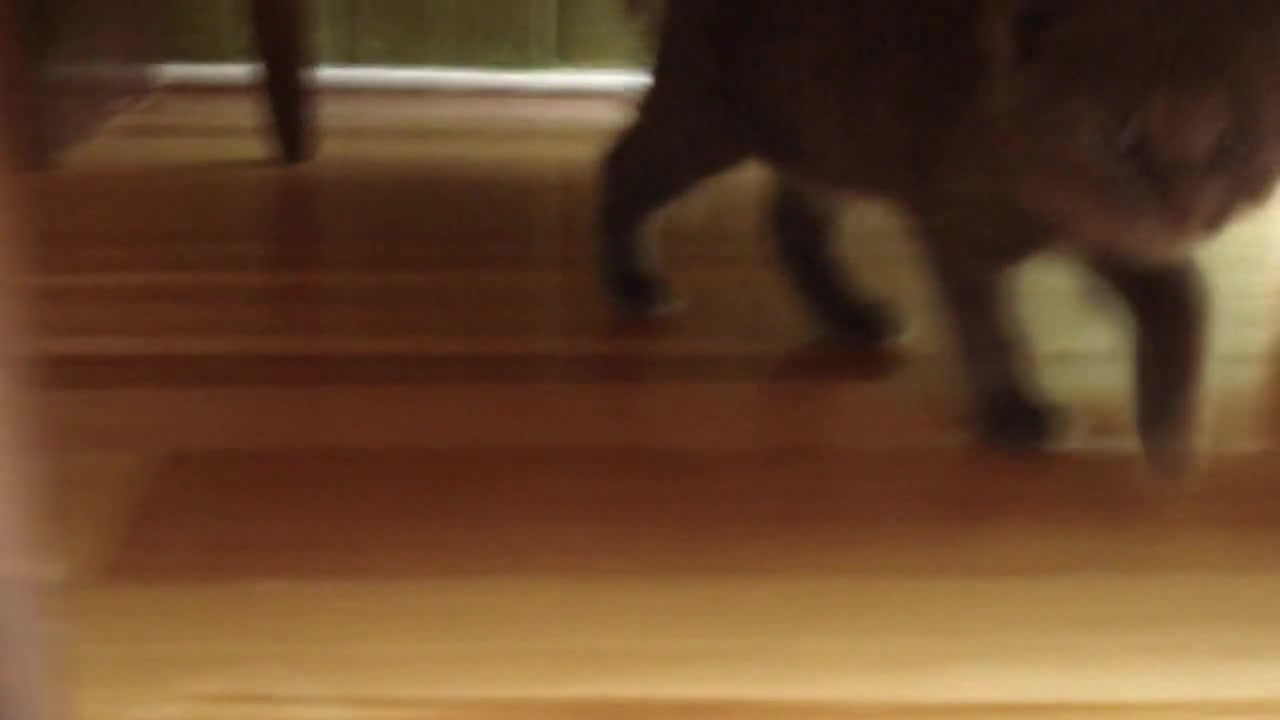cat: (590, 3, 1280, 469)
